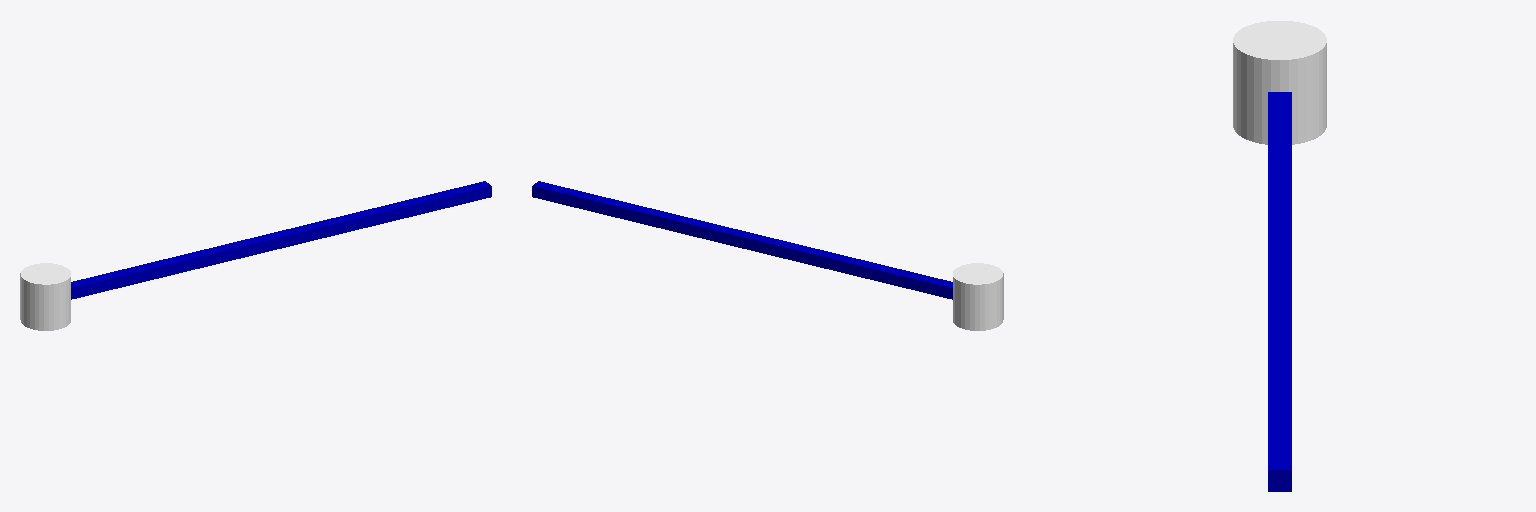
The robot description file, URDF, robot "10dof":
<?xml version="1.0" ?>

<robot name="10dof" xmlns:xacro="http://ros.org/wiki/xacro">
  <gazebo>
    <plugin filename="libgazebo_ros_control.so" name="ros_control">
    </plugin>
    
  </gazebo>

  <link name="base_link">
    <visual>
      <origin xyz="0 0 0" rpy="0 0 0"/>
      <geometry>
        <cylinder length="0.2" radius="0.1"/>
      </geometry>
      <material name="White">
       <color rgba="1.0 1.0 1.0 1.0"/>
      </material>
    </visual>
  </link>

  <link name="link1">
    <visual>
      <origin xyz="0.1 0 0"/>
      <geometry>
        <box size="0.2 0.05 0.05"/>
      </geometry>
      <material name="Blue">
       <color rgba="0.0 0.0 0.8 1.0"/>
      </material>
    </visual>
  </link>

  <link name="link2">
    <visual>
      <origin xyz="0.1 0 0"/>
      <geometry>
        <box size="0.2 0.05 0.05"/>
      </geometry>
      <material name="Blue">
       <color rgba="0.0 0.0 0.8 1.0"/>
      </material>
    </visual>
  </link>

  <link name="link3">
    <visual>
      <origin xyz="0.1 0 0"/>
      <geometry>
        <box size="0.2 0.05 0.05"/>
      </geometry>
      <material name="Blue">
       <color rgba="0.0 0.0 0.8 1.0"/>
      </material>
    </visual>
  </link>

  <link name="link4">
    <visual>
      <origin xyz="0.1 0 0"/>
      <geometry>
        <box size="0.2 0.05 0.05"/>
      </geometry>
      <material name="Blue">
       <color rgba="0.0 0.0 0.8 1.0"/>
      </material>
    </visual>
  </link>

  <link name="link5">
    <visual>
      <origin xyz="0.1 0 0"/>
      <geometry>
        <box size="0.2 0.05 0.05"/>
      </geometry>
      <material name="Blue">
       <color rgba="0.0 0.0 0.8 1.0"/>
      </material>
    </visual>
  </link>

  <link name="link6">
    <visual>
      <origin xyz="0.1 0 0"/>
      <geometry>
        <box size="0.2 0.05 0.05"/>
      </geometry>
      <material name="Blue">
       <color rgba="0.0 0.0 0.8 1.0"/>
      </material>
    </visual>
  </link>

  <link name="link7">
    <visual>
      <origin xyz="0.1 0 0"/>
      <geometry>
        <box size="0.2 0.05 0.05"/>
      </geometry>
      <material name="Blue">
       <color rgba="0.0 0.0 0.8 1.0"/>
      </material>
    </visual>
  </link>

  <link name="link8">
    <visual>
      <origin xyz="0.1 0 0"/>
      <geometry>
        <box size="0.2 0.05 0.05"/>
      </geometry>
      <material name="Blue">
       <color rgba="0.0 0.0 0.8 1.0"/>
      </material>
    </visual>
  </link>

  <link name="link9">
    <visual>
      <origin xyz="0.1 0 0"/>
      <geometry>
        <box size="0.2 0.05 0.05"/>
      </geometry>
      <material name="Blue">
       <color rgba="0.0 0.0 0.8 1.0"/>
      </material>
    </visual>
  </link>

  <link name="link10">
    <visual>
      <origin xyz="0.1 0 0"/>
      <geometry>
        <box size="0.2 0.05 0.05"/>
      </geometry>
      <material name="Blue">
       <color rgba="0.0 0.0 0.8 1.0"/>
      </material>
    </visual>
  </link>
  <link name="tool"></link>


<!-- Joints -->

  <joint name="joint1" type="revolute">
    <limit effort="30" velocity="1.0" lower="-3.14159" upper="3.14159" />
    <parent link="base_link"/>
    <child link="link1"/>
    <origin xyz="0 0 0" rpy="0 0 0" />
    <axis xyz="0 0 1" />
  </joint>

  <joint name="joint2" type="revolute">
    <limit effort="30" velocity="1.0" lower="-3.14159" upper="3.14159" />
    <parent link="link1"/>
    <child link="link2"/>
    <origin xyz="0.2 0 0" rpy="0 0 0" />
    <axis xyz="0 0 1" />
  </joint>

  <joint name="joint3" type="revolute">
    <limit effort="30" velocity="1.0" lower="-3.14159" upper="3.14159" />
    <parent link="link2"/>
    <child link="link3"/>
    <origin xyz="0.2 0 0" rpy="0 0 0" />
    <axis xyz="0 0 1" />
  </joint>

  <joint name="joint4" type="revolute">
    <limit effort="30" velocity="1.0" lower="-3.14159" upper="3.14159" />
    <parent link="link3"/>
    <child link="link4"/>
    <origin xyz="0.2 0 0" rpy="0 0 0" />
    <axis xyz="0 0 1" />
  </joint>

  <joint name="joint5" type="revolute">
    <limit effort="30" velocity="1.0" lower="-3.14159" upper="3.14159" />
    <parent link="link4"/>
    <child link="link5"/>
    <origin xyz="0.2 0 0" rpy="0 0 0" />
    <axis xyz="0 0 1" />
  </joint>

  <joint name="joint6" type="revolute">
    <limit effort="30" velocity="1.0" lower="-3.14159" upper="3.14159" />
    <parent link="link5"/>
    <child link="link6"/>
    <origin xyz="0.2 0 0" rpy="0 0 0" />
    <axis xyz="0 0 1" />
  </joint>

  <joint name="joint7" type="revolute">
    <limit effort="30" velocity="1.0" lower="-3.14159" upper="3.14159" />
    <parent link="link6"/>
    <child link="link7"/>
    <origin xyz="0.2 0 0" rpy="0 0 0" />
    <axis xyz="0 0 1" />
  </joint>

  <joint name="joint8" type="revolute">
    <limit effort="30" velocity="1.0" lower="-3.14159" upper="3.14159" />
    <parent link="link7"/>
    <child link="link8"/>
    <origin xyz="0.2 0 0" rpy="0 0 0" />
    <axis xyz="0 0 1" />
  </joint>

  <joint name="joint9" type="revolute">
    <limit effort="30" velocity="1.0" lower="-3.14159" upper="3.14159" />
    <parent link="link8"/>
    <child link="link9"/>
    <origin xyz="0.2 0 0" rpy="0 0 0" />
    <axis xyz="0 0 1" />
  </joint>

  <joint name="joint10" type="revolute">
    <limit effort="30" velocity="1.0" lower="-3.14159" upper="3.14159" />
    <parent link="link9"/>
    <child link="link10"/>
    <origin xyz="0.2 0 0" rpy="0 0 0" />
    <axis xyz="0 0 1" />
  </joint>

  <joint name="ee" type="fixed">
    <parent link="link10" />
    <child link="tool" />
    <limit effort="30" velocity="1.0" lower="-6.28318" upper="6.28318" />
    <origin xyz="0.2 0 0" rpy="0 0 0" />
    <axis xyz="0 0 1" />
  </joint>
</robot>

--- What the picture shows (computed from the rendered views, not written in the file) ---
3 views of the same robot in one strip: view 1: azimuth 30°, elevation 25°; view 2: azimuth 150°, elevation 25°; view 3: azimuth 270°, elevation 25° (orthographic).
Robot: 10dof — 12 links, 11 joints (10 revolute, 1 fixed); root link base_link; default pose: all joints at 0.
Links seen in each view (by area): view 1: base_link, link10, link2, link6, link4, link5, link7, link9, link3, link8; view 2: base_link, link10, link2, link6, link4, link5, link7, link9, link3, link8; view 3: base_link, link10, link2, link3, link5, link6, link7, link8, link4, link9.
Link boxes in pixels (box(x1,y1,x2,y2)): base_link: box(20, 263, 70, 330); link10: box(442, 181, 491, 207); link2: box(87, 268, 137, 293); link6: box(265, 224, 314, 250); link4: box(176, 246, 225, 272); link5: box(221, 235, 269, 261); link7: box(309, 213, 358, 239); link9: box(397, 192, 446, 218); link3: box(131, 257, 181, 282); link8: box(353, 203, 402, 228); base_link: box(953, 263, 1003, 330); link10: box(532, 181, 581, 207); link2: box(886, 268, 936, 293); link6: box(709, 224, 758, 250); link4: box(798, 246, 847, 272); link5: box(754, 235, 802, 261); link7: box(665, 213, 714, 239); link9: box(577, 192, 626, 218); link3: box(842, 257, 892, 282); link8: box(621, 203, 670, 228); base_link: box(1233, 21, 1326, 144); link10: box(1268, 430, 1291, 491); link2: box(1268, 112, 1291, 151); link3: box(1268, 152, 1291, 191); link5: box(1268, 231, 1291, 270); link6: box(1268, 271, 1291, 310); link7: box(1268, 311, 1291, 350); link8: box(1268, 351, 1291, 390); link4: box(1268, 192, 1291, 230); link9: box(1268, 391, 1291, 429).
Size in the robot's own frame: 2.1 by 0.2 by 0.2 metres.
Geometry: primitives only (box / cylinder / sphere), no mesh files.